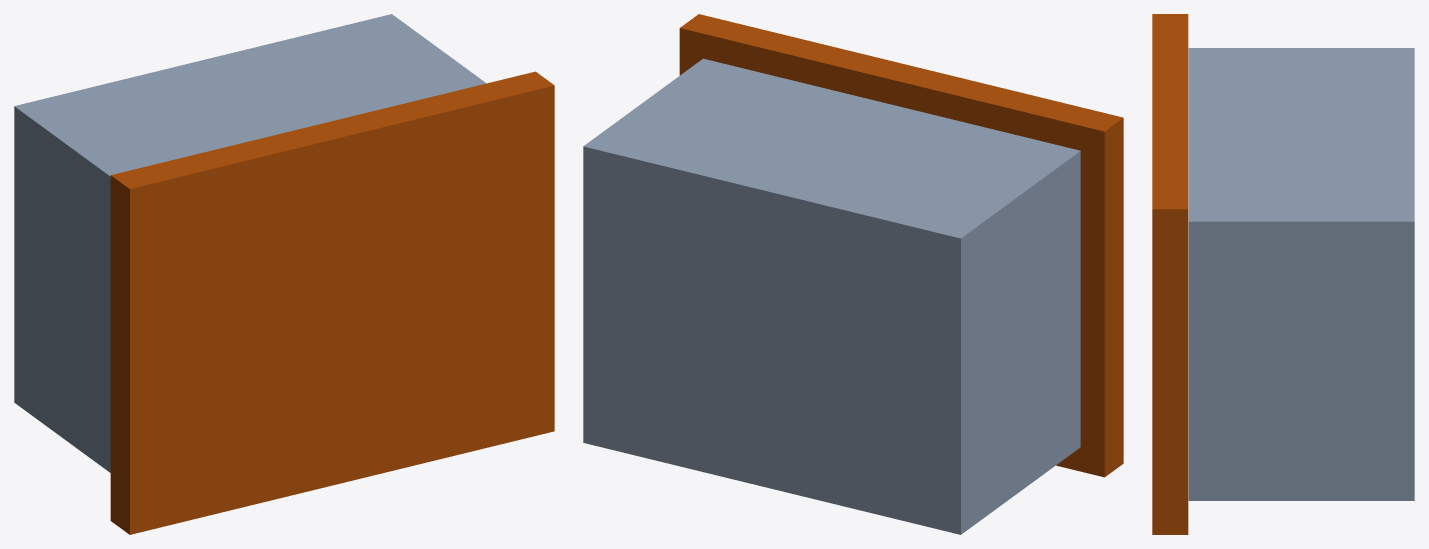
The model's file is building.kiosk.glb.
3 renders of one model, left to right at view 1: azimuth 30°, elevation 25°; view 2: azimuth 150°, elevation 25°; view 3: azimuth 270°, elevation 25°, orthographic. The views are drawn at different scales.
Visible parts, largest first — view 1: building.kiosk; view 2: building.kiosk; view 3: building.kiosk.
Boxes of the visible parts, box(x1,y1,x2,y2) form: building.kiosk: box(14, 14, 554, 534); building.kiosk: box(583, 14, 1123, 534); building.kiosk: box(1152, 14, 1414, 534).
Bounding box in the file's own units: 4.5 × 3.5 × 2.56.
